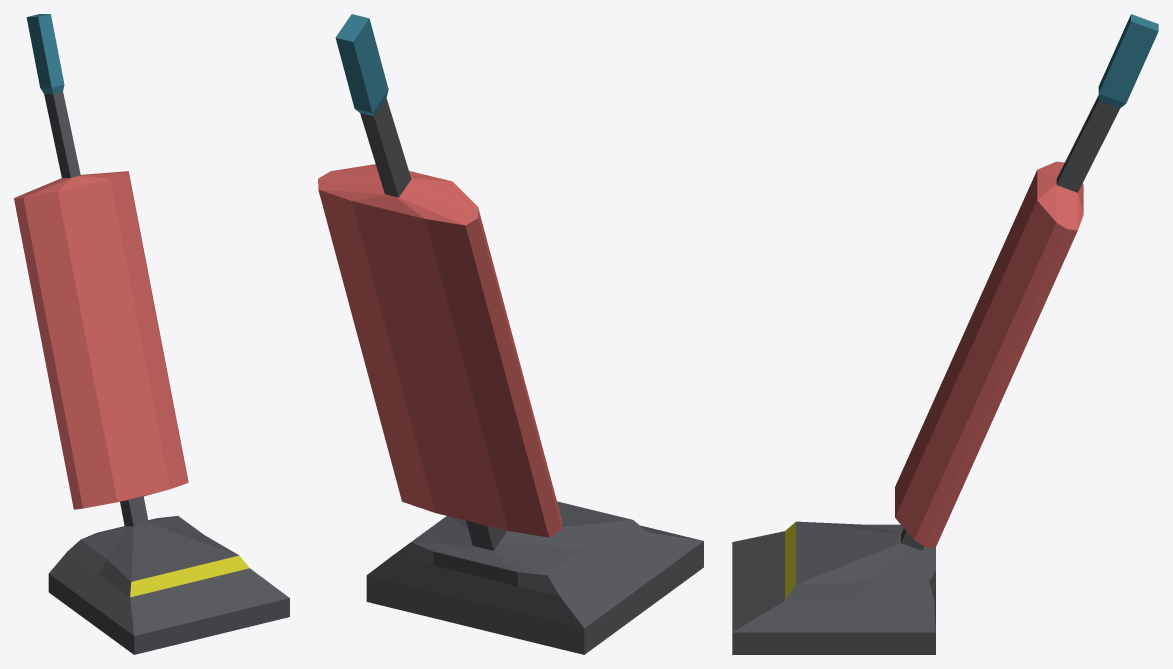
The model's file is vacuum.fbx.
3 renders of one model, left to right at view 1: azimuth 30°, elevation 25°; view 2: azimuth 150°, elevation 25°; view 3: azimuth 270°, elevation 25°, orthographic. The views are drawn at different scales.
Visible parts, largest first — view 1: Vacuum; view 2: Vacuum; view 3: Vacuum.
Part boxes in pixels (box(x1,y1,x2,y2)): Vacuum: box(14, 14, 289, 654); Vacuum: box(318, 14, 703, 654); Vacuum: box(732, 14, 1158, 654).
Size of the model in its own units: 293 by 895 by 584.
